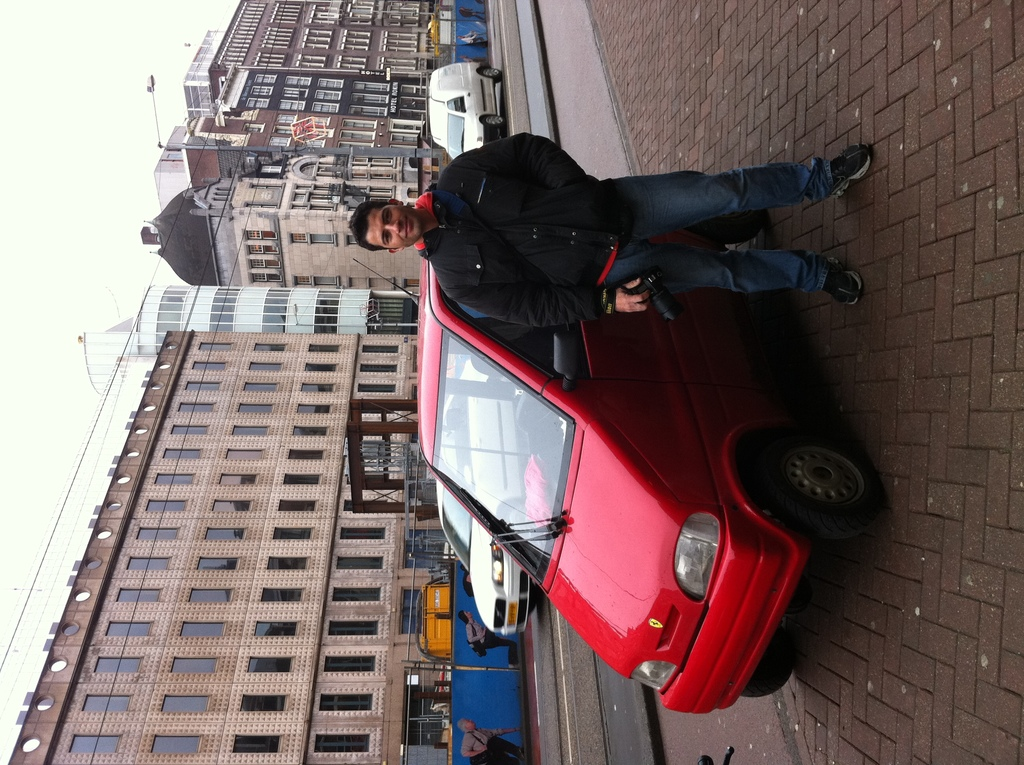Car: (444, 231, 880, 672), (435, 359, 549, 636)
